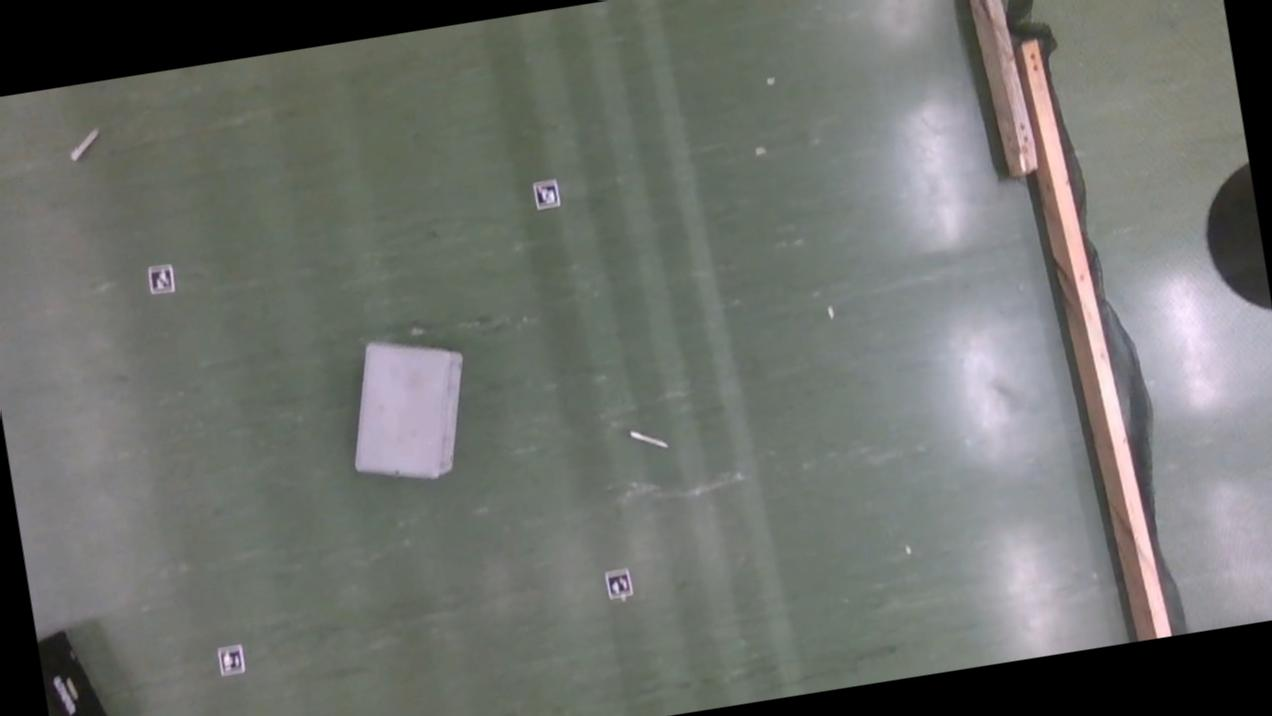probes: (68, 128, 102, 162), (631, 425, 669, 453)
rako: (336, 329, 482, 493)
